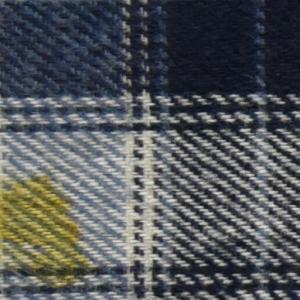Stain: (1, 175, 100, 298)
